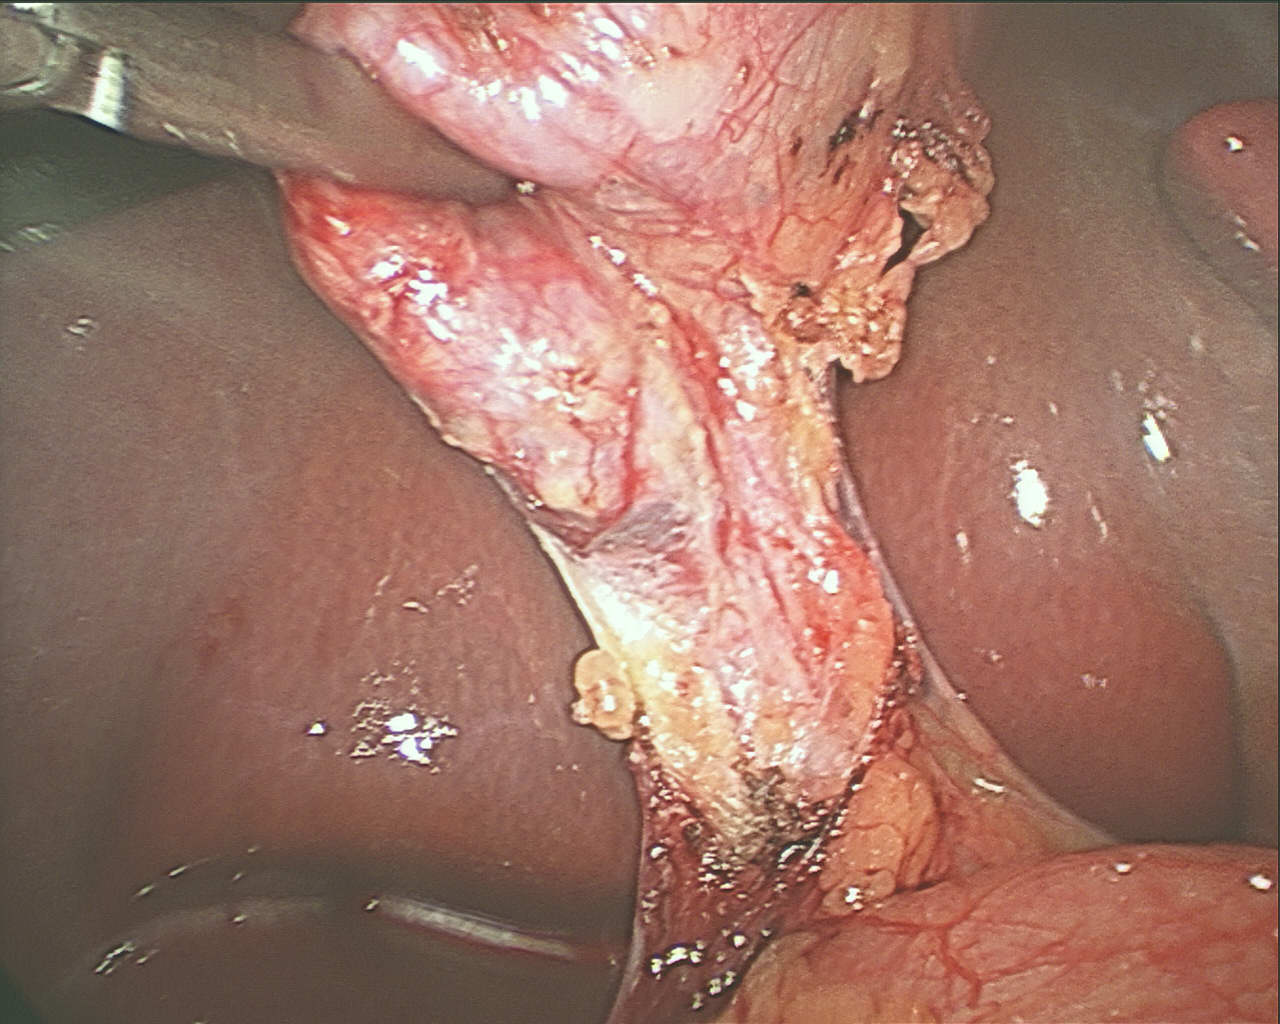Forceps: (8, 8, 516, 228)
